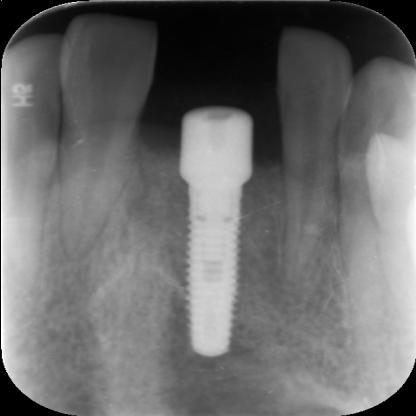Bego: (182, 182, 260, 360)
